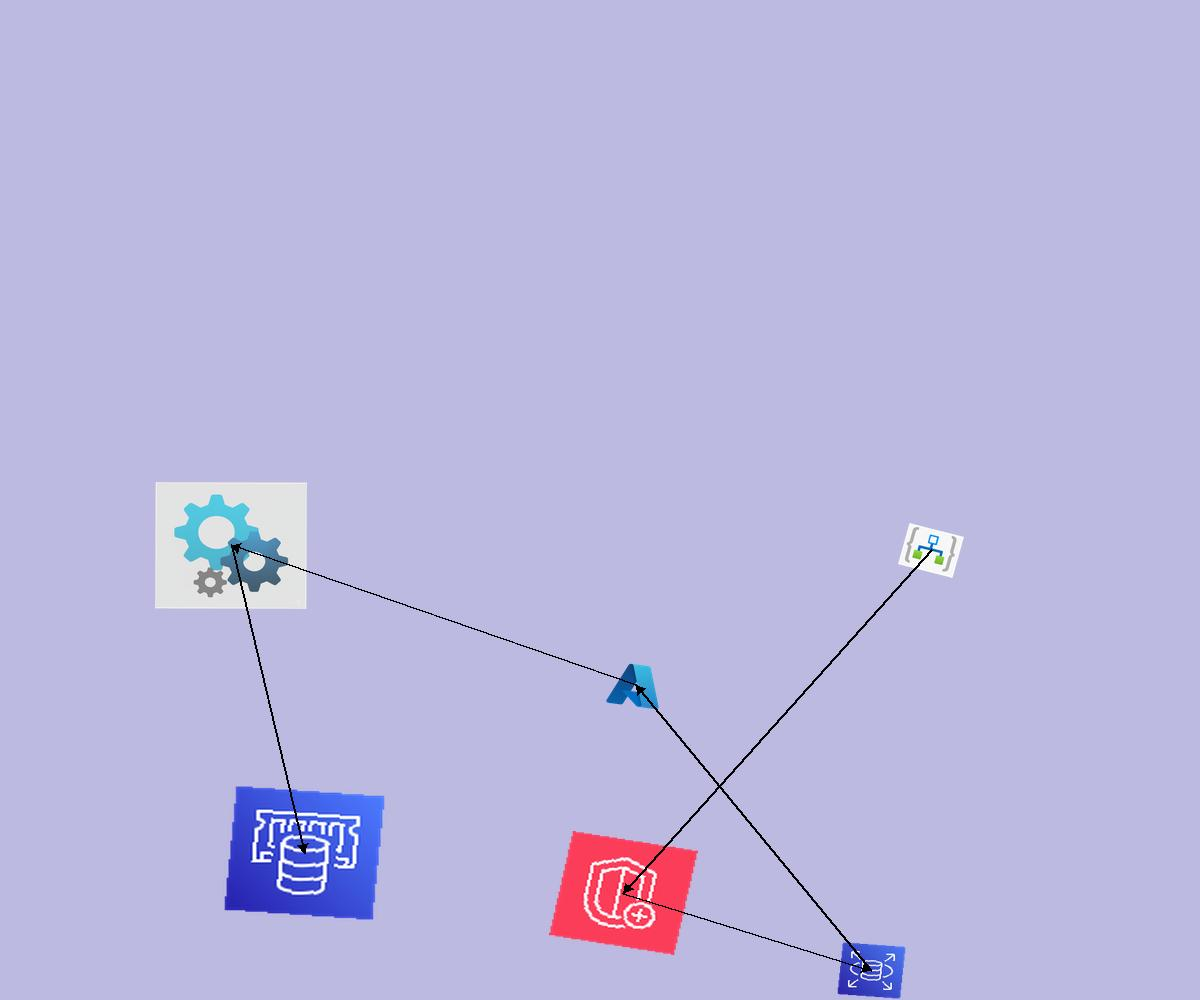AWS-ElastiCache: (223, 785, 386, 921)
AWS-RDS: (837, 942, 906, 999)
AWS-Shield: (549, 831, 698, 955)
Azure_api: (155, 482, 307, 609)
Azure_integration-204-Logic-Apps: (898, 523, 964, 578)
Azure_services: (603, 658, 669, 713)
